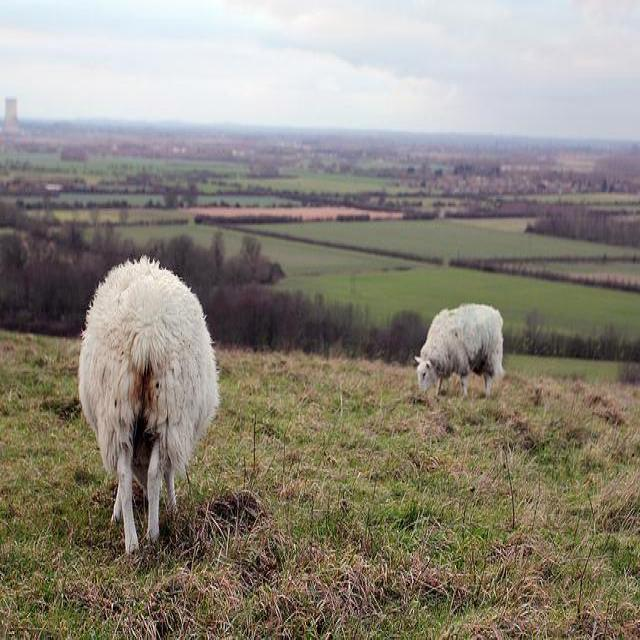Sheep: (78, 259, 214, 555), (416, 304, 506, 397)
